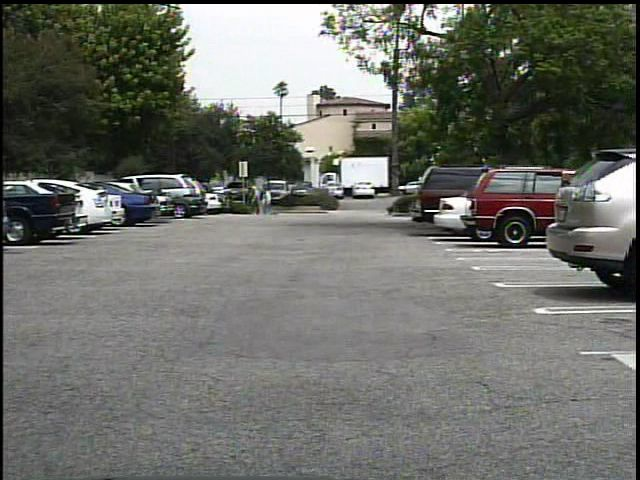person: (248, 184, 264, 216), (264, 185, 278, 218), (258, 185, 270, 216)
